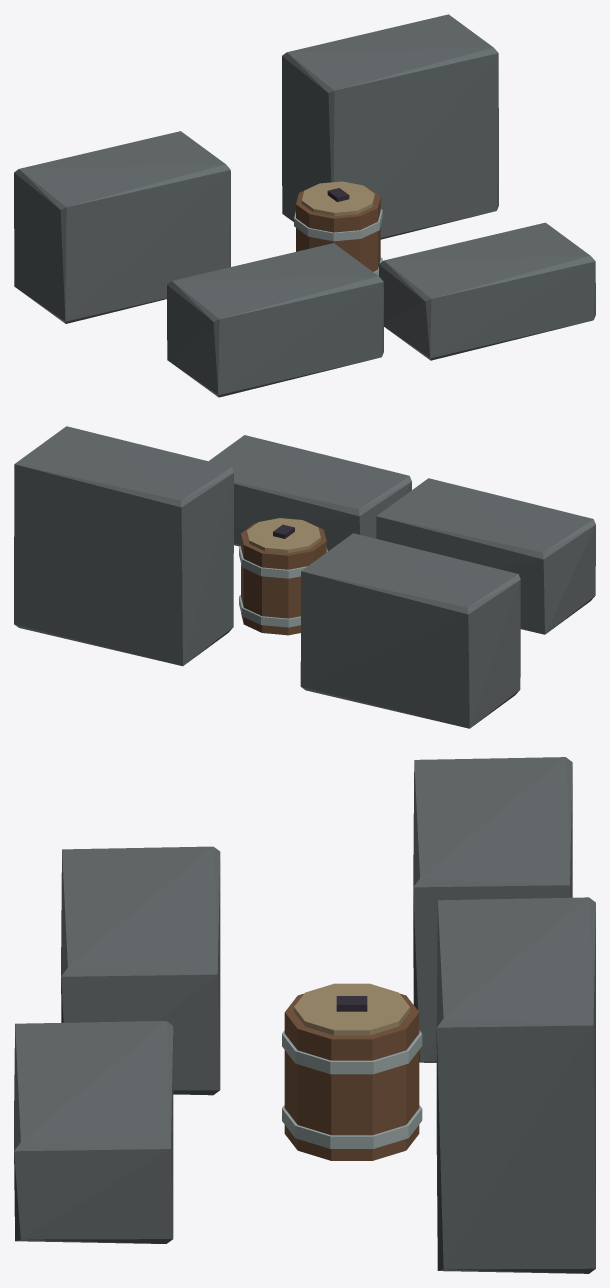
Rendered from ruins.glb.
3 views of the same model, one above another, from view 1: azimuth 30°, elevation 25°; view 2: azimuth 150°, elevation 25°; view 3: azimuth 270°, elevation 25° (orthographic). The views are drawn at different scales.
Parts seen in each view (by area): view 1: Cone; view 2: Cone; view 3: Cone.
Boxes of the visible parts, box(x1,y1,x2,y2) form: Cone: box(14, 14, 595, 397); Cone: box(14, 426, 595, 728); Cone: box(14, 757, 595, 1273).
Bounding box in the file's own units: 1.7 × 0.6001 × 1.24.
